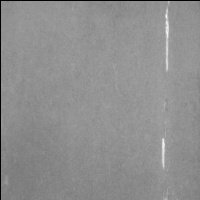scratches: (159, 1, 176, 75), (158, 134, 170, 171)
